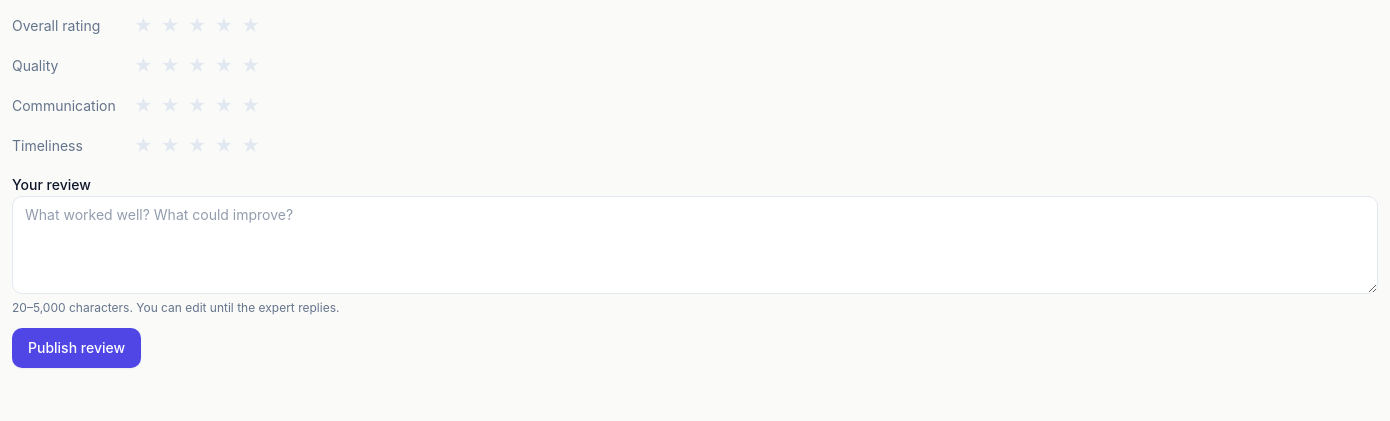
Test: ReviewComposer › requires a star rating before submitting
The image size is (1390, 421).
Type "Solid work overall, well structured." into the text box labelled "Your review".
click(695, 245); type("Solid work overall, well structured.")  # box [12, 196, 1378, 294]
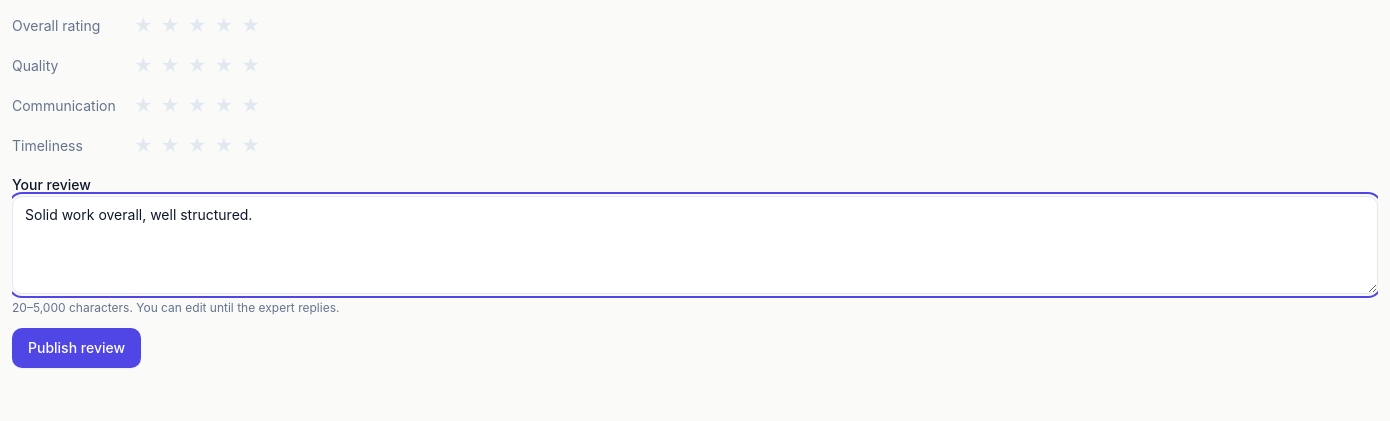
Click the button "Publish review".
click(77, 348)  # box [12, 328, 141, 368]
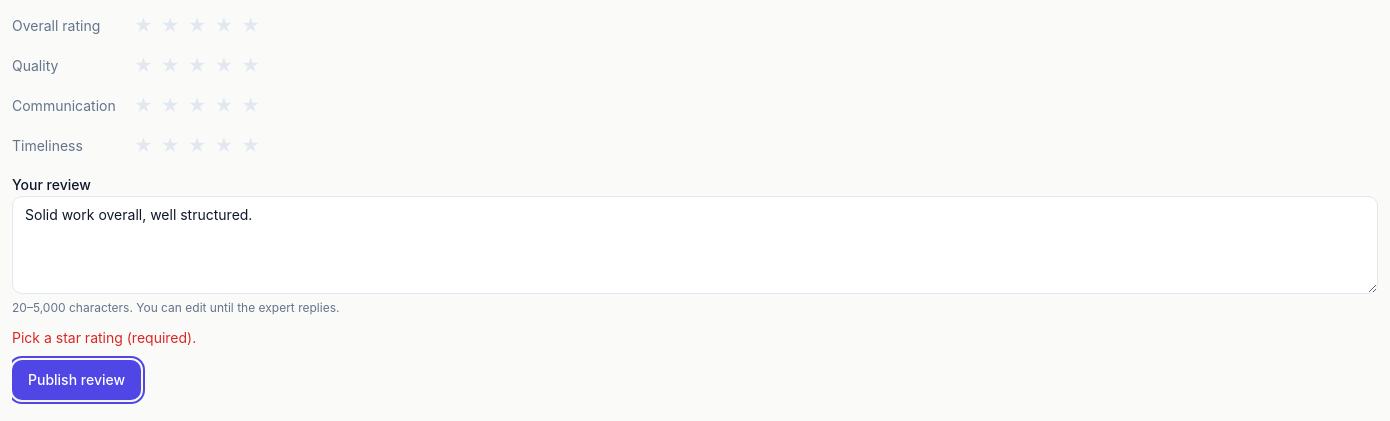
Check: the message shows "Pick a star rating", box [12, 329, 196, 346]
